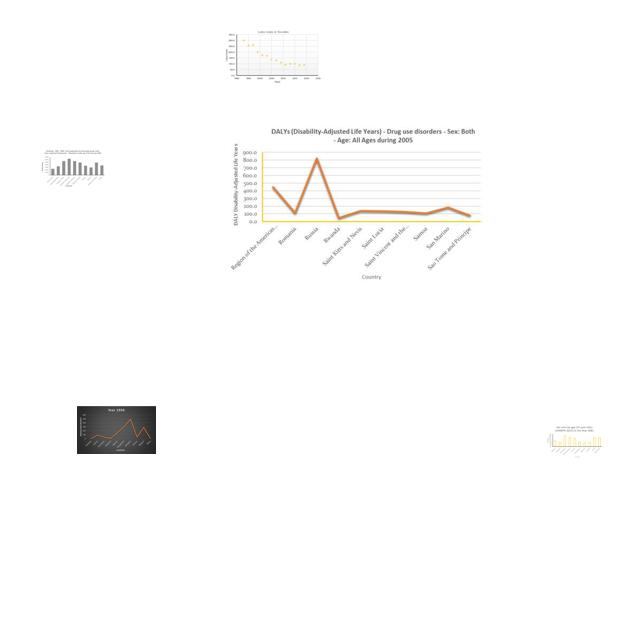Graph: (227, 123, 486, 285), (225, 29, 321, 84), (77, 406, 156, 454), (40, 150, 106, 187), (546, 425, 603, 458)
